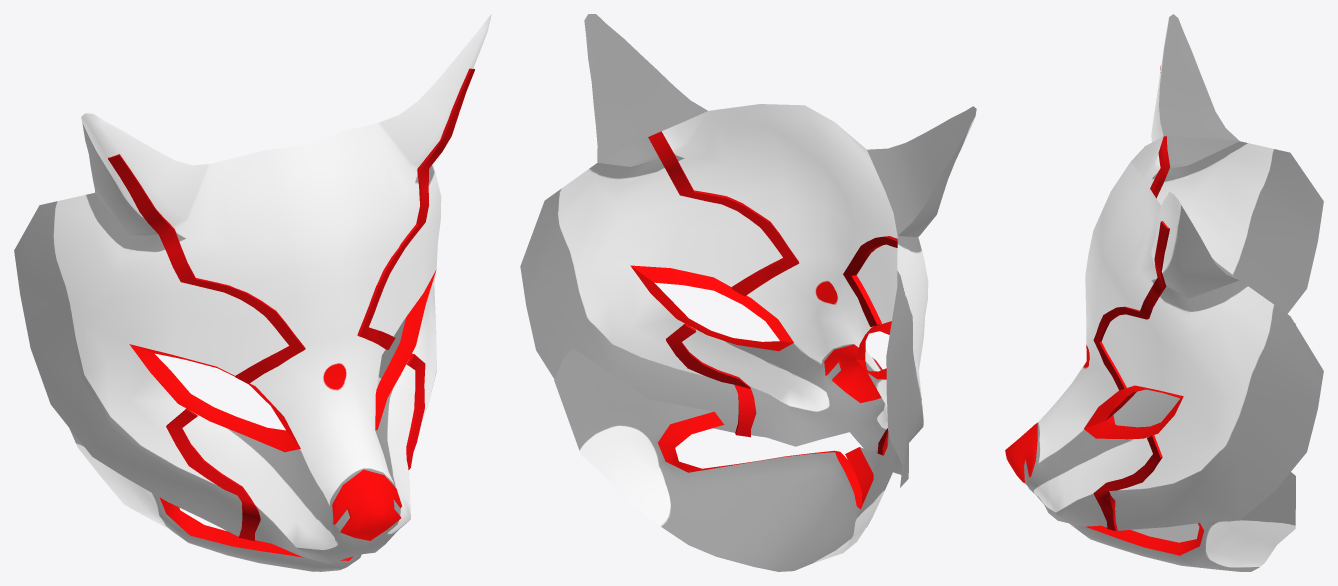
The model's file is KitsuneMask-Pearl.gltf.
The picture shows the model from 3 angles, left to right: view 1: azimuth 30°, elevation 25°; view 2: azimuth 150°, elevation 25°; view 3: azimuth 270°, elevation 25°; orthographic projection. The views are drawn at different scales.
Parts seen in each view (by area): view 1: Cube; view 2: Cube; view 3: Cube.
Boxes of the visible parts, box(x1,y1,x2,y2) form: Cube: box(14, 14, 491, 571); Cube: box(520, 14, 976, 571); Cube: box(1005, 14, 1323, 571).
Size of the model in its own units: 0.2264 by 0.2682 by 0.1682.
Materials: 2 (1 with a texture image).
